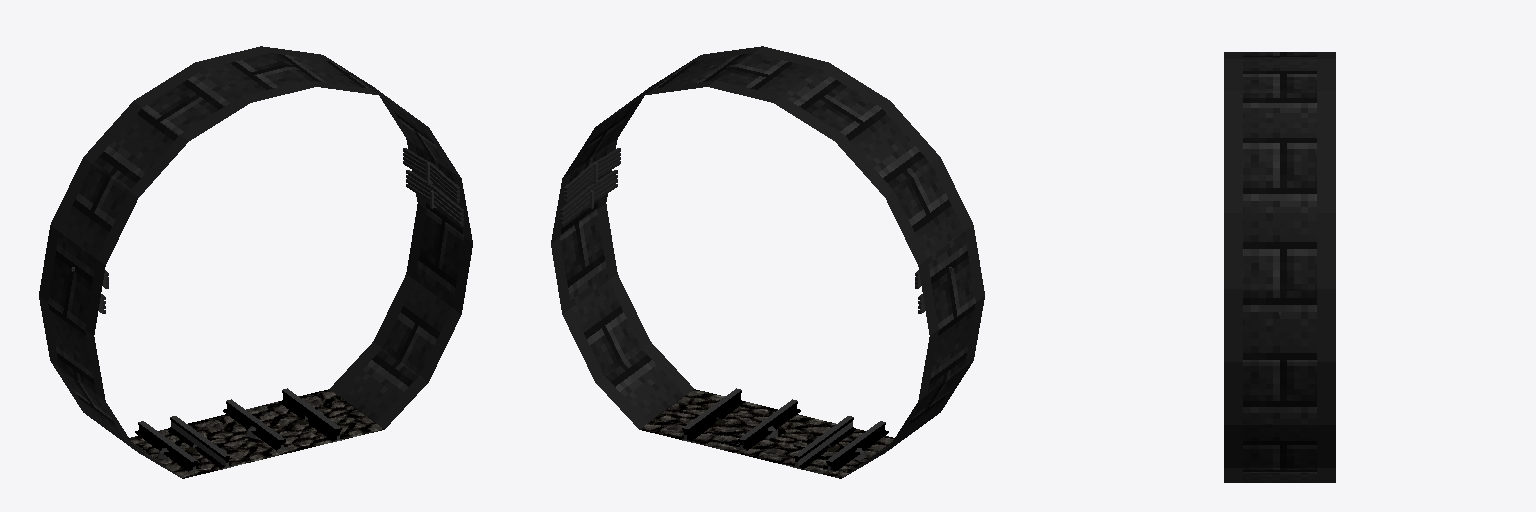
3 renders of one model, left to right at view 1: azimuth 30°, elevation 25°; view 2: azimuth 150°, elevation 25°; view 3: azimuth 270°, elevation 25°, orthographic.
Parts seen in each view (by area): view 1: Cylinder_Cylinder.002, christunnel_(1)_christunnel_(1).003, cube.002_cube.008, cube.003_cube.009; view 2: Cylinder_Cylinder.002, christunnel_(1)_christunnel_(1).003, cube.002_cube.008, cube.003_cube.009; view 3: Cylinder_Cylinder.002.
Boxes of the visible parts, box(x1,y1,x2,y2) form: Cylinder_Cylinder.002: box(39, 46, 472, 478); christunnel_(1)_christunnel_(1).003: box(135, 388, 343, 471); cube.002_cube.008: box(98, 170, 463, 313); cube.003_cube.009: box(103, 148, 459, 288); Cylinder_Cylinder.002: box(551, 46, 984, 478); christunnel_(1)_christunnel_(1).003: box(680, 388, 888, 471); cube.002_cube.008: box(560, 170, 925, 313); cube.003_cube.009: box(564, 148, 920, 288); Cylinder_Cylinder.002: box(1224, 52, 1335, 482).
Bounding box in the file's own units: 4.03 × 3.69 × 1.02.
3 materials, 3 textured.